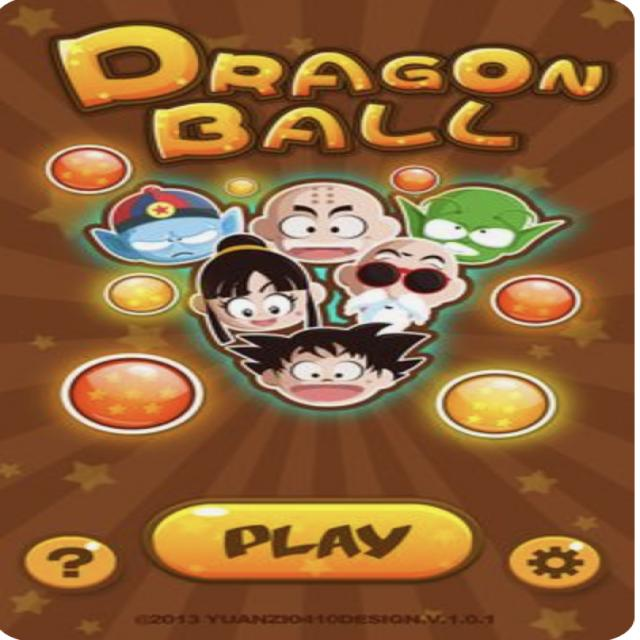Start-button: (158, 503, 458, 578)
